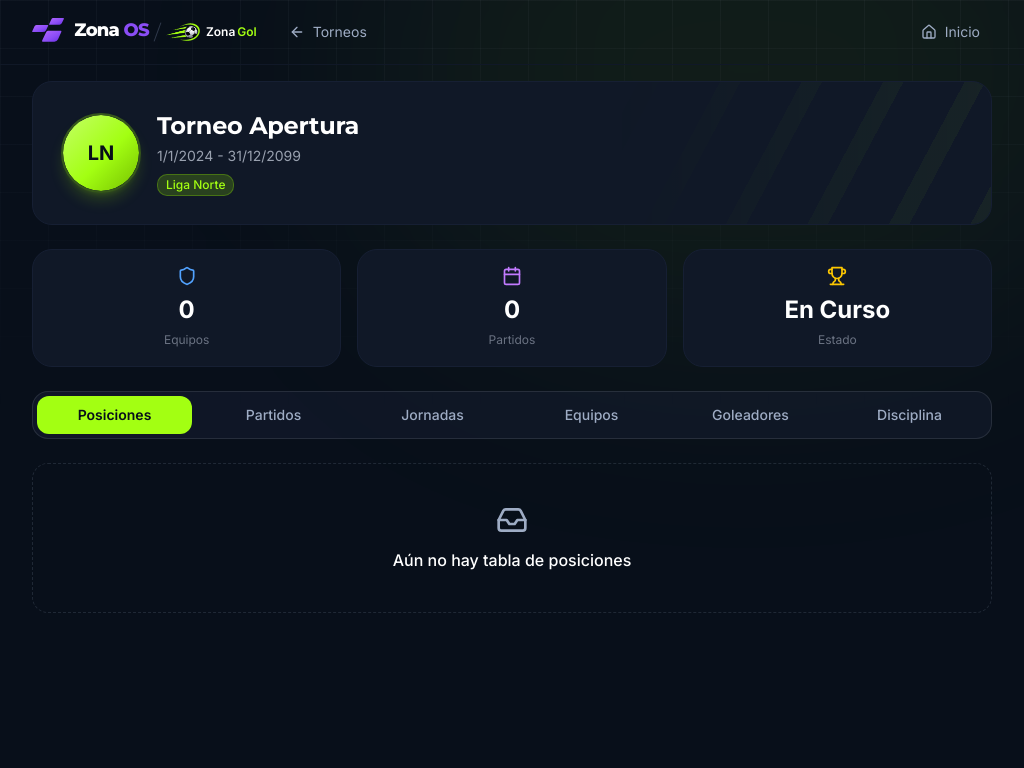
Test: TournamentDetailPage › shows empty states per tab
The image size is (1024, 768).
Expected: the text "Aún no hay tabla de posiciones" is shown, [393,548,631,572]
Click the tab "Partidos" at (274, 415), box [196,396,351,434]
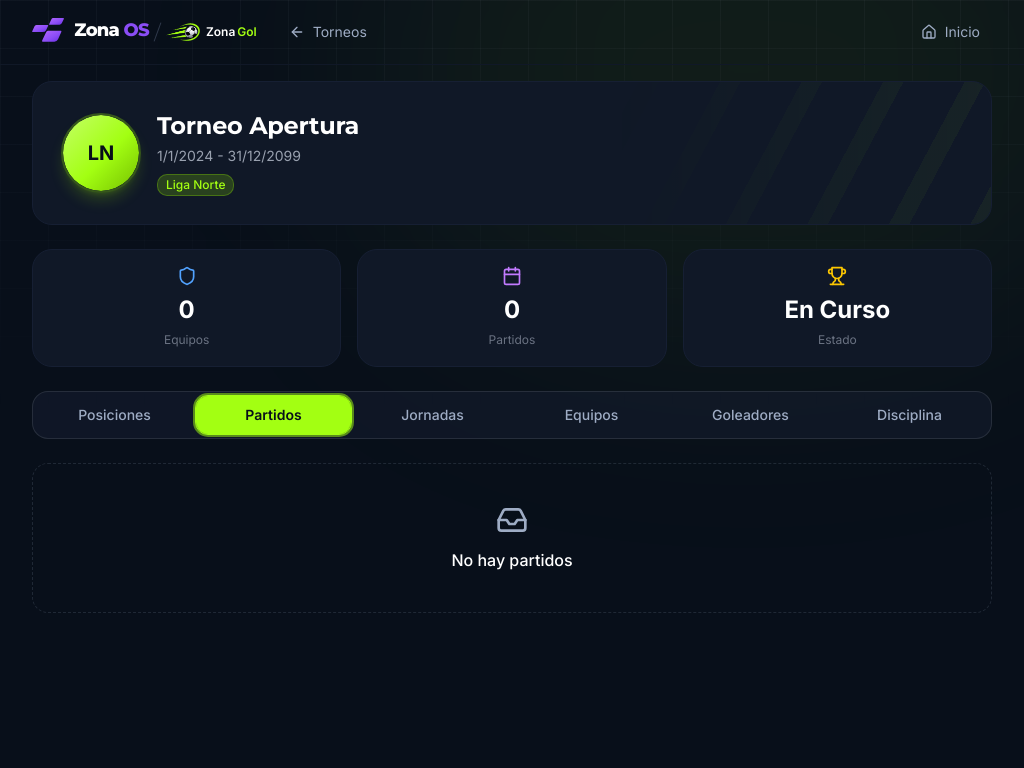
Expected: the text "No hay partidos" is shown, [451,548,573,572]
